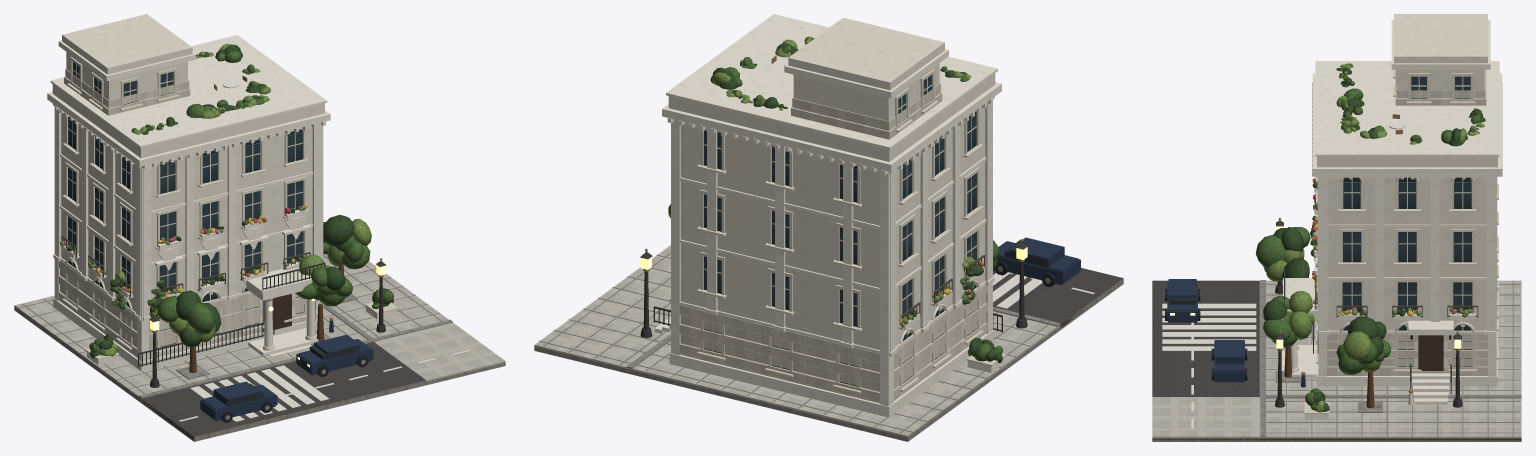
File: mayfairmansion.glb
The picture shows the model from 3 angles, left to right: view 1: azimuth 30°, elevation 25°; view 2: azimuth 150°, elevation 25°; view 3: azimuth 270°, elevation 25°; orthographic projection. The views are drawn at different scales.
Visible parts, largest first — view 1: mansion_walls, parapet_cap, pilaster_shaft (×8), pavement, pavement_east, carriageway, rustication_course (×5), attic_parapet, parapet, site_base, main_cornice, mansion_plinth (+12 smaller); view 2: mansion_walls, pavement, rustication_course (×5), pilaster_shaft (×7), parapet_cap, attic_parapet, mansion_quoin (×2), parapet, mansion_plinth, main_cornice, carriageway, mansion_floor_band (×3) (+8 smaller); view 3: pavement, mansion_walls, parapet_cap, carriageway, pilaster_shaft (×4), pavement_east, tree_canopy (×10), window_glass (×9), attic_parapet, rustication_course (×5), main_cornice, parapet (+17 smaller).
Part boxes in pixels (<box>): mansion_walls: <box>61,113,312,349</box>; parapet_cap: <box>50,35,327,148</box>; pilaster_shaft (×8): <box>55,109,321,316</box>; pavement: <box>14,254,447,398</box>; pavement_east: <box>324,258,505,381</box>; carriageway: <box>142,342,425,439</box>; rustication_course (×5): <box>59,261,315,358</box>; attic_parapet: <box>62,14,192,74</box>; parapet: <box>52,84,324,158</box>; site_base: <box>14,305,505,441</box>; main_cornice: <box>47,92,330,166</box>; mansion_plinth: <box>53,298,324,371</box>; mansion_walls: <box>681,107,985,391</box>; pavement: <box>534,245,1058,437</box>; rustication_course (×5): <box>679,285,987,401</box>; pilaster_shaft (×7): <box>707,103,992,351</box>; parapet_cap: <box>666,14,997,149</box>; attic_parapet: <box>788,17,944,90</box>; mansion_quoin (×2): <box>671,121,893,406</box>; parapet: <box>668,73,995,161</box>; mansion_plinth: <box>669,329,994,417</box>; main_cornice: <box>662,82,1001,172</box>; carriageway: <box>993,268,1122,327</box>; mansion_floor_band (×3): <box>680,157,986,353</box>; pavement: <box>1266,280,1521,436</box>; mansion_walls: <box>1327,177,1487,366</box>; parapet_cap: <box>1315,61,1499,156</box>; carriageway: <box>1152,280,1259,440</box>; pilaster_shaft (×4): <box>1320,178,1494,330</box>; pavement_east: <box>1152,397,1521,438</box>; tree_canopy (×10): <box>1255,227,1379,375</box>; window_glass (×9): <box>1342,182,1472,312</box>; attic_parapet: <box>1394,14,1487,63</box>; rustication_course (×5): <box>1327,333,1487,374</box>; main_cornice: <box>1312,73,1502,175</box>; parapet: <box>1317,156,1497,167</box>.
Size of the model in its own units: 22.09 by 19.09 by 22.
Materials: 28 (20 with a texture image).
